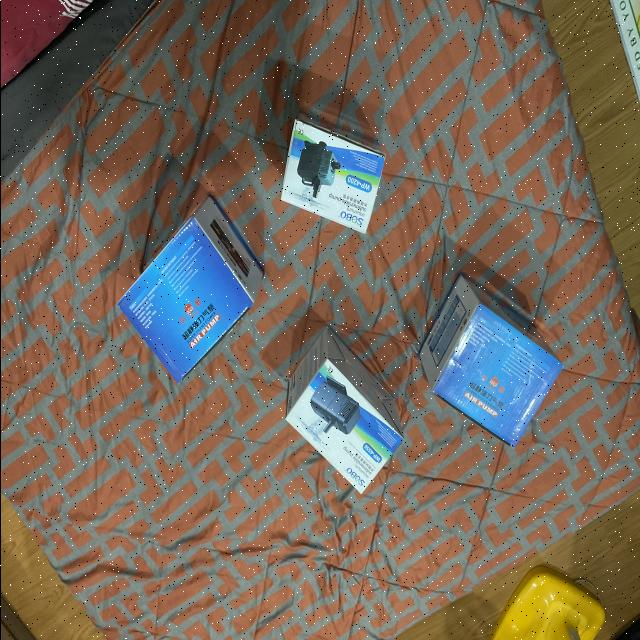SOBO_WP_4200: (278, 320, 408, 500), (270, 108, 397, 242)
YAMANO_LPP_20: (105, 188, 274, 398), (414, 270, 564, 460)
